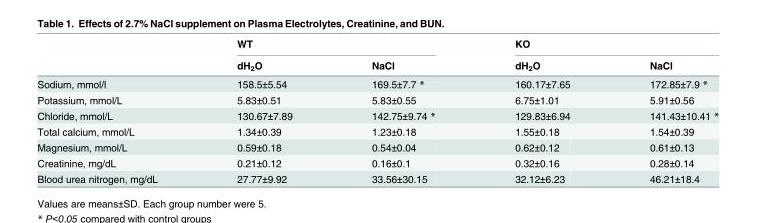table: (36, 37, 718, 184)
table column: (36, 37, 196, 184), (331, 37, 474, 184), (196, 37, 331, 184), (474, 37, 609, 184), (609, 37, 718, 184)
table column header: (36, 37, 718, 74)
table row: (36, 53, 718, 74), (36, 74, 718, 91), (36, 37, 718, 53), (36, 91, 718, 107), (36, 107, 718, 123), (36, 123, 718, 139), (36, 154, 718, 170), (36, 139, 718, 154), (36, 170, 718, 184)
table spanning cell: (196, 37, 474, 53), (474, 37, 718, 53)
